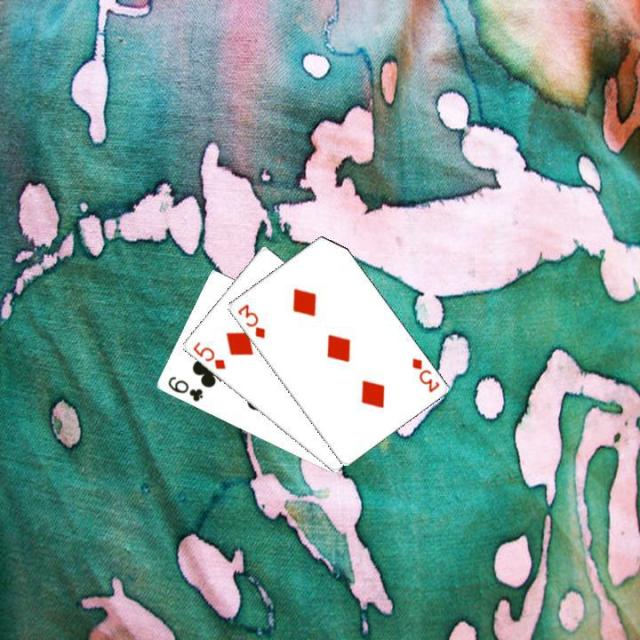3D: (233, 300, 267, 340), (407, 354, 441, 394)
5D: (188, 338, 228, 372)
6C: (163, 372, 204, 403)
